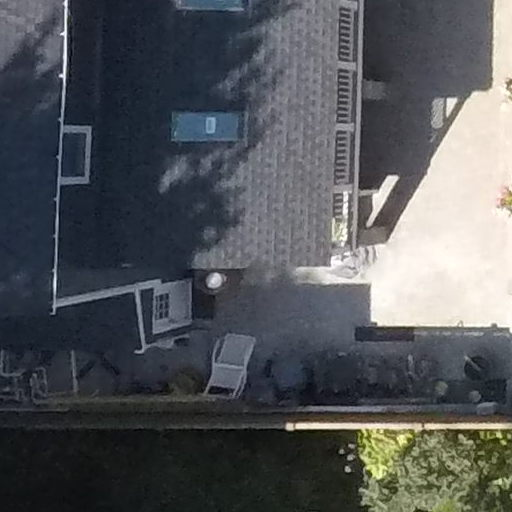chair: (197, 321, 272, 404)
